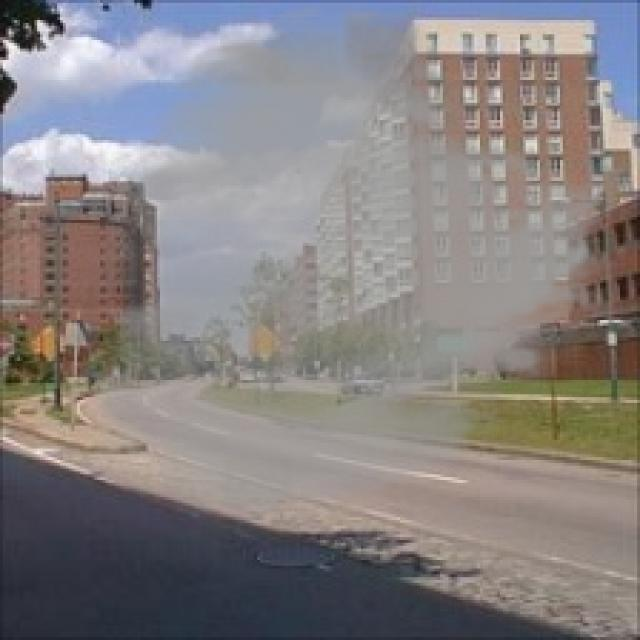Smoke: (83, 0, 632, 526)
